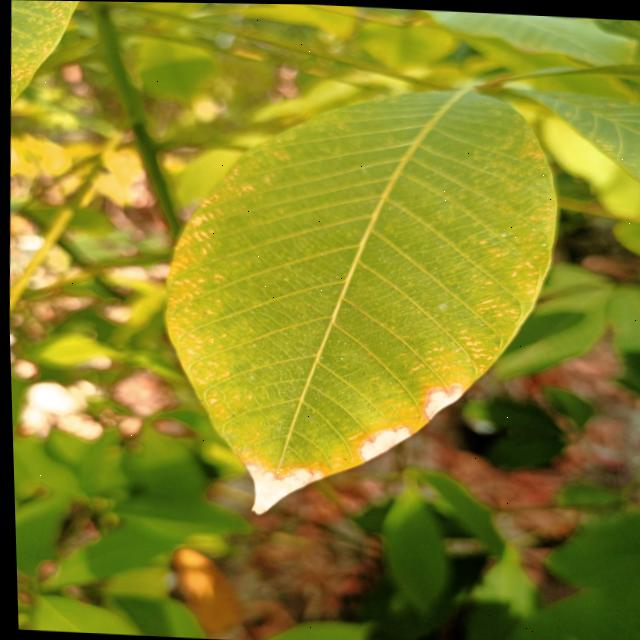Leaf-Blight: (239, 461, 320, 517), (356, 423, 412, 462), (420, 381, 464, 419)
